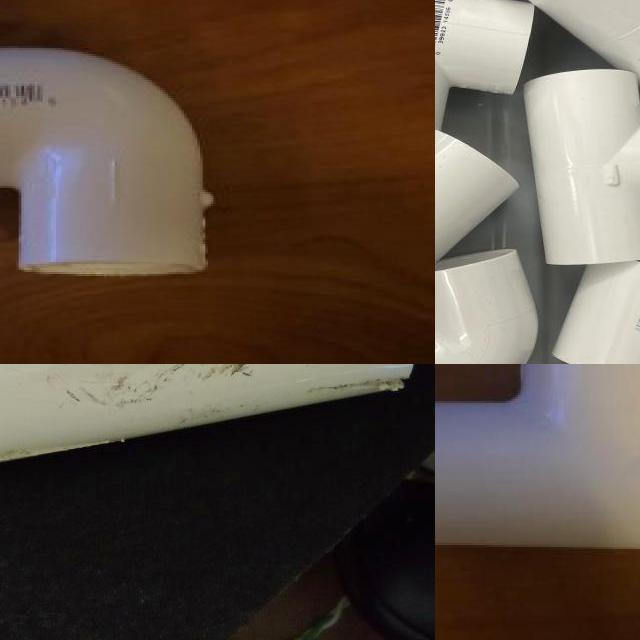Defective: (307, 366, 411, 403), (0, 448, 92, 466)
L Joint: (0, 47, 213, 279)
T Joint: (435, 364, 640, 552)
